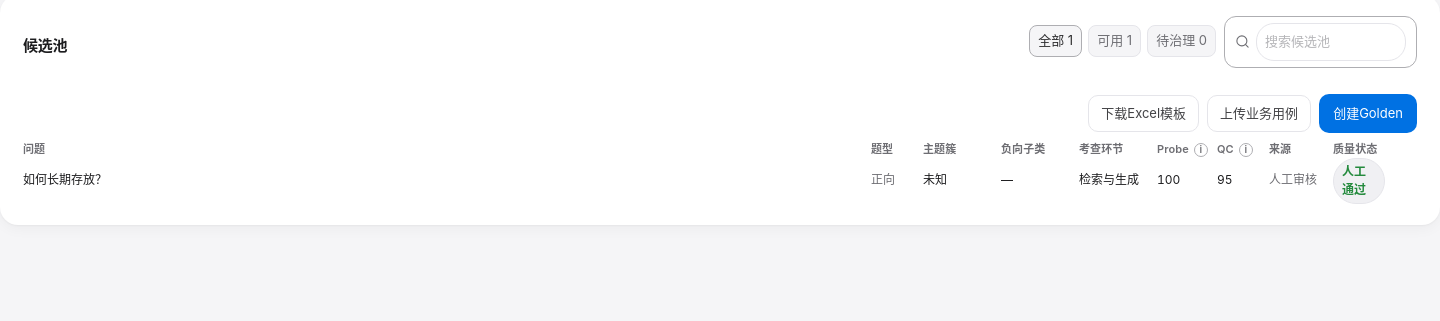
preserves checkbox Space handling while pool row keys open details
Later steps or results of the test are not shown.
Click the button "创建Golden".
click(1368, 113)  # box left=1319, top=94, right=1417, bottom=133
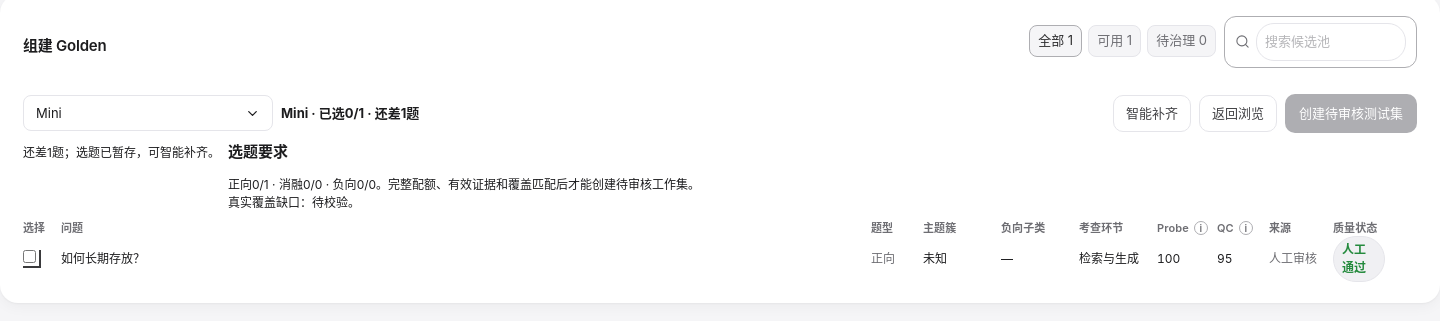
Press Space in the checkbox named "选择 如何长期存放？", box left=23, top=250, right=36, bottom=263
Click the checkbox named "选择 如何长期存放？".
click(30, 256)  # box left=23, top=250, right=36, bottom=263
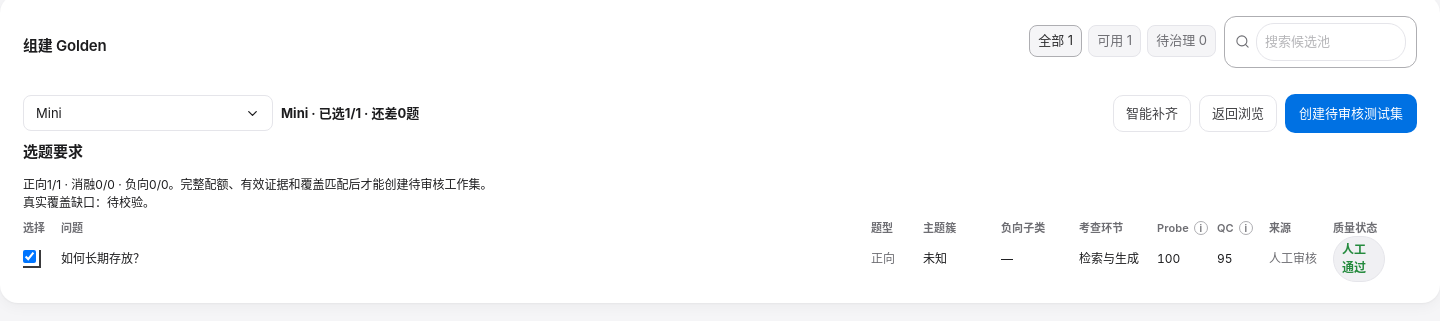
Now the checkbox named "选择 如何长期存放？" is checked, box left=23, top=250, right=36, bottom=263
